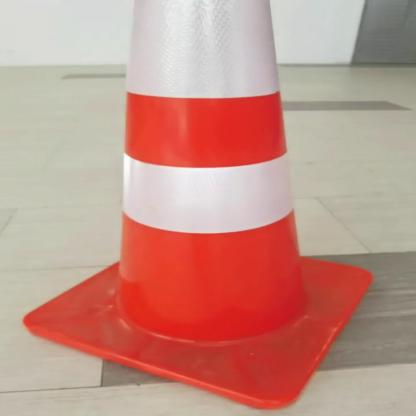cone: (11, 1, 384, 416)
